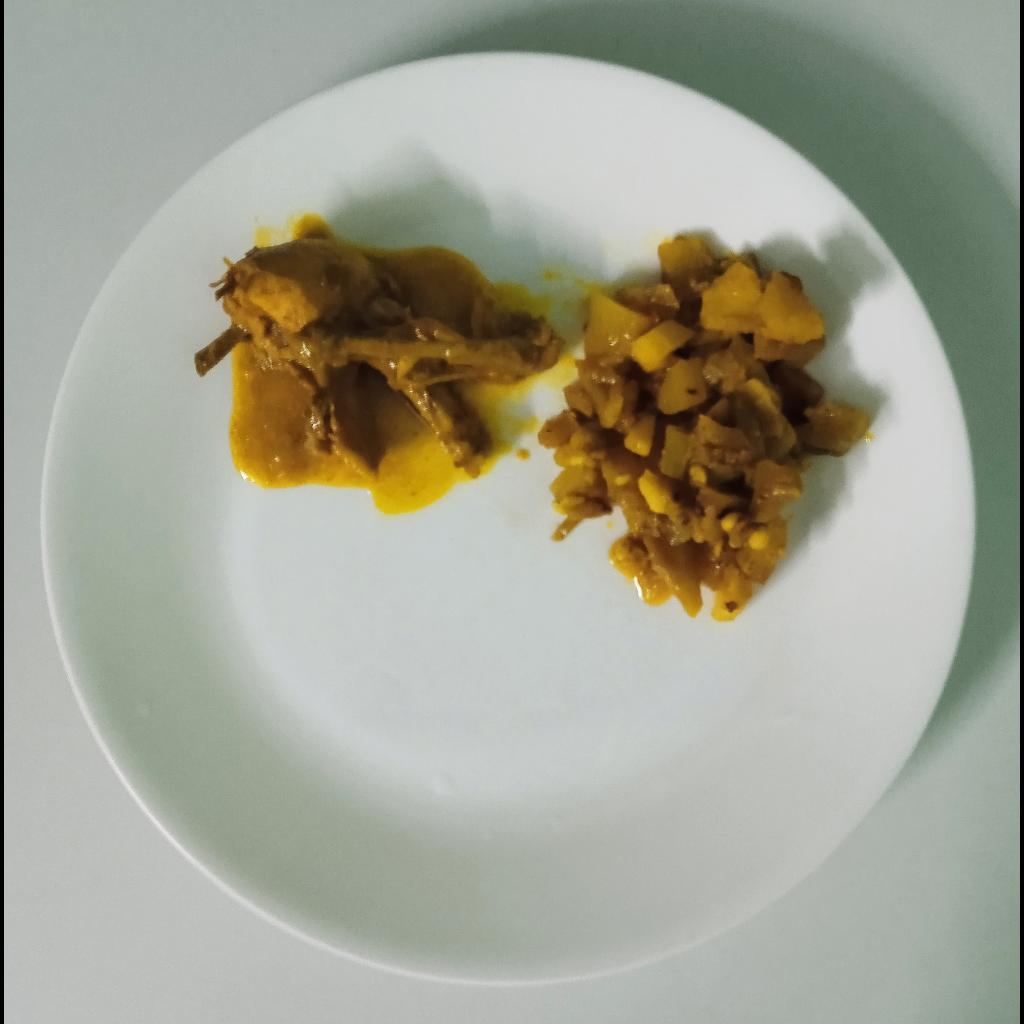chicken: (192, 237, 569, 489)
kumra-vaji: (539, 240, 867, 621)
